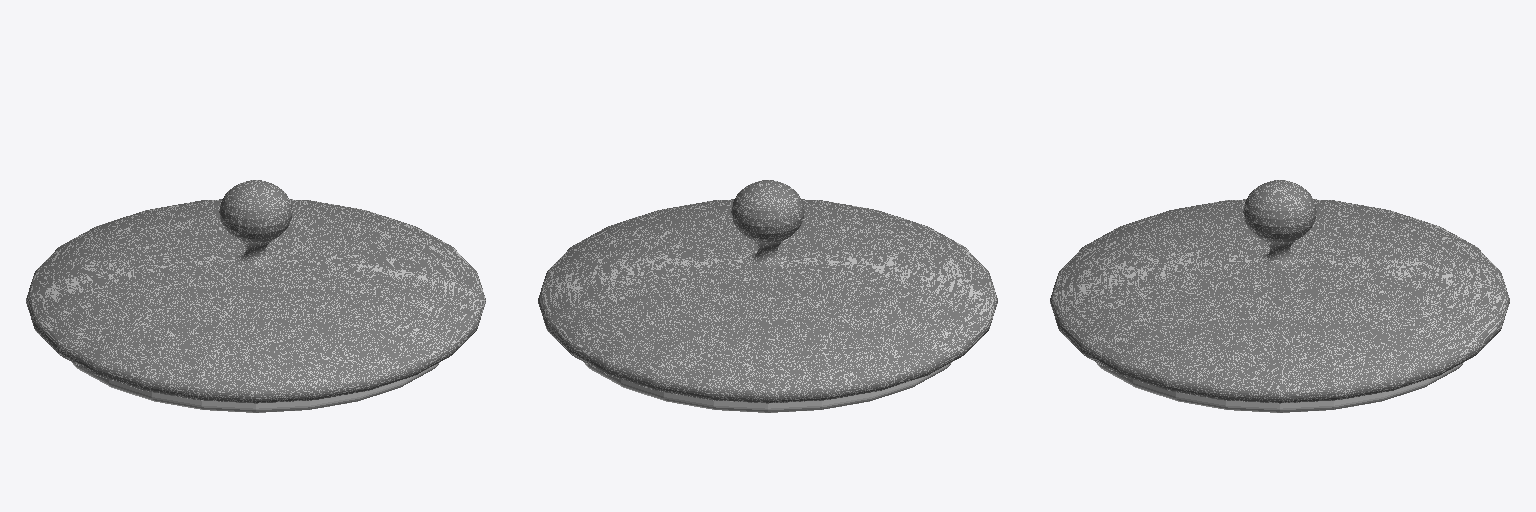
The model's file is original-1.obj.
The picture shows the model from 3 angles: view 1: azimuth 30°, elevation 25°; view 2: azimuth 150°, elevation 25°; view 3: azimuth 270°, elevation 25°; orthographic projection.
Visible parts, largest first — view 1: Group2/mesh1/mesh1-geometry#mesh1-geometry; view 2: Group2/mesh1/mesh1-geometry#mesh1-geometry; view 3: Group2/mesh1/mesh1-geometry#mesh1-geometry.
Part boxes in pixels (x1,y1,x2,y2): Group2/mesh1/mesh1-geometry#mesh1-geometry: (26,180,485,412); Group2/mesh1/mesh1-geometry#mesh1-geometry: (538,180,997,412); Group2/mesh1/mesh1-geometry#mesh1-geometry: (1050,180,1509,412).
Bounding box in the file's own units: 0.5309 × 0.1831 × 0.5309.